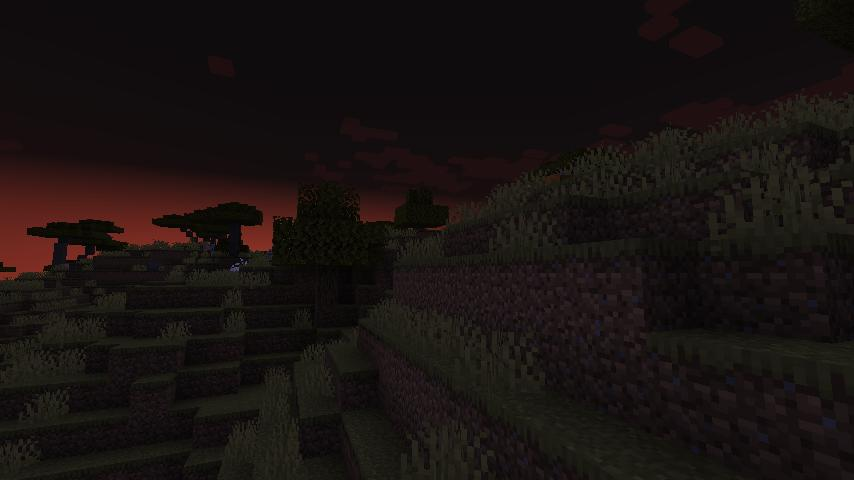fox: (525, 169, 577, 190)
pig: (203, 244, 210, 252)
skeleton: (210, 243, 216, 258), (268, 248, 273, 263)
